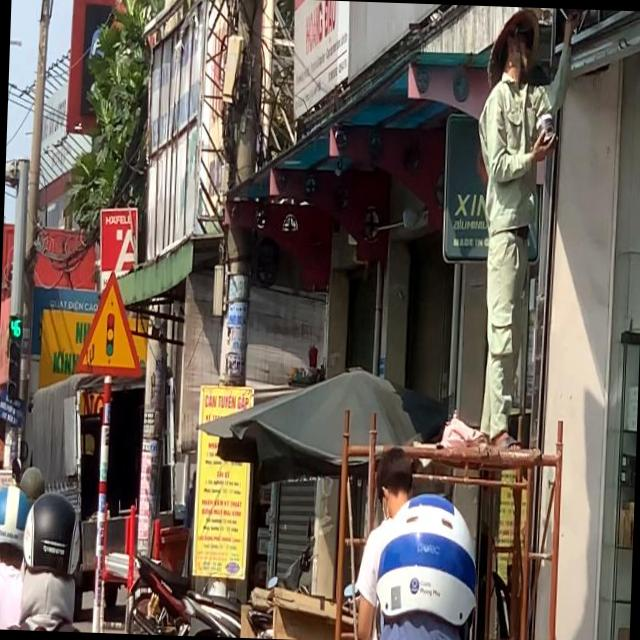W-209: (74, 268, 144, 379)
